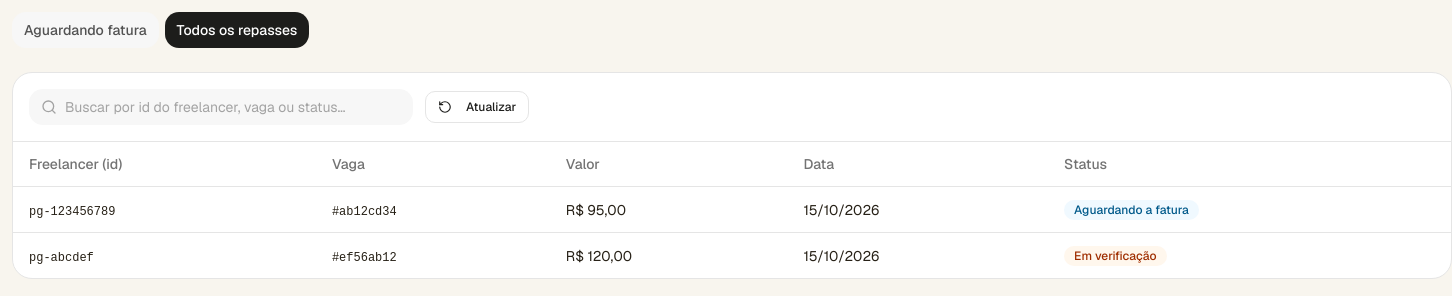
Scenario: Pagamentos aos freelancers — aguardando fatura › rota fora do ar (404): abre direto em 'Todos os repasses', sem aviso na frente nem erro
expect the text "Aguardando a fatura" is shown: met, box x1=1064 y1=200 x2=1199 y2=220
expect the text "Em verificação" is shown: met, box x1=1064 y1=246 x2=1166 y2=266
Note: O aviso calmo só se a pessoa escolher "Aguardando fatura".
Click the button "Aguardando fatura".
click(85, 30)  # box x1=12 y1=12 x2=159 y2=48
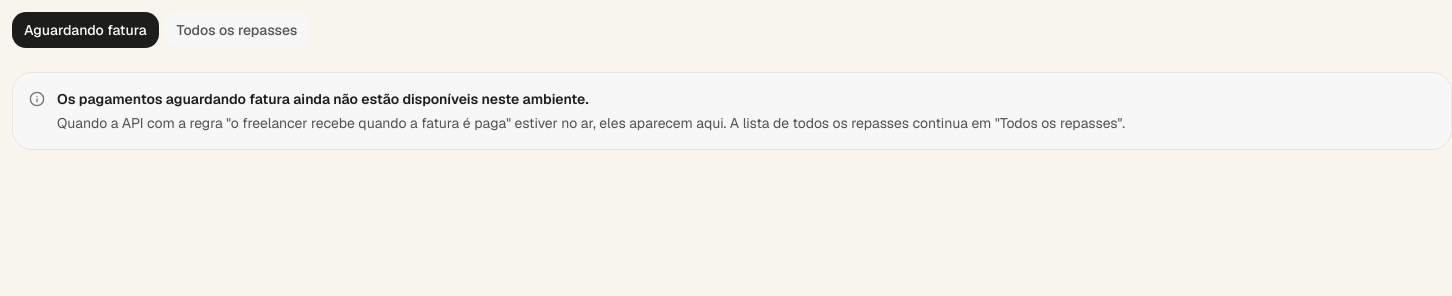
expect the text "Os pagamentos aguardando fatura ainda não estão disponíveis neste ambiente." is shown: met, box x1=57 y1=90 x2=588 y2=108
